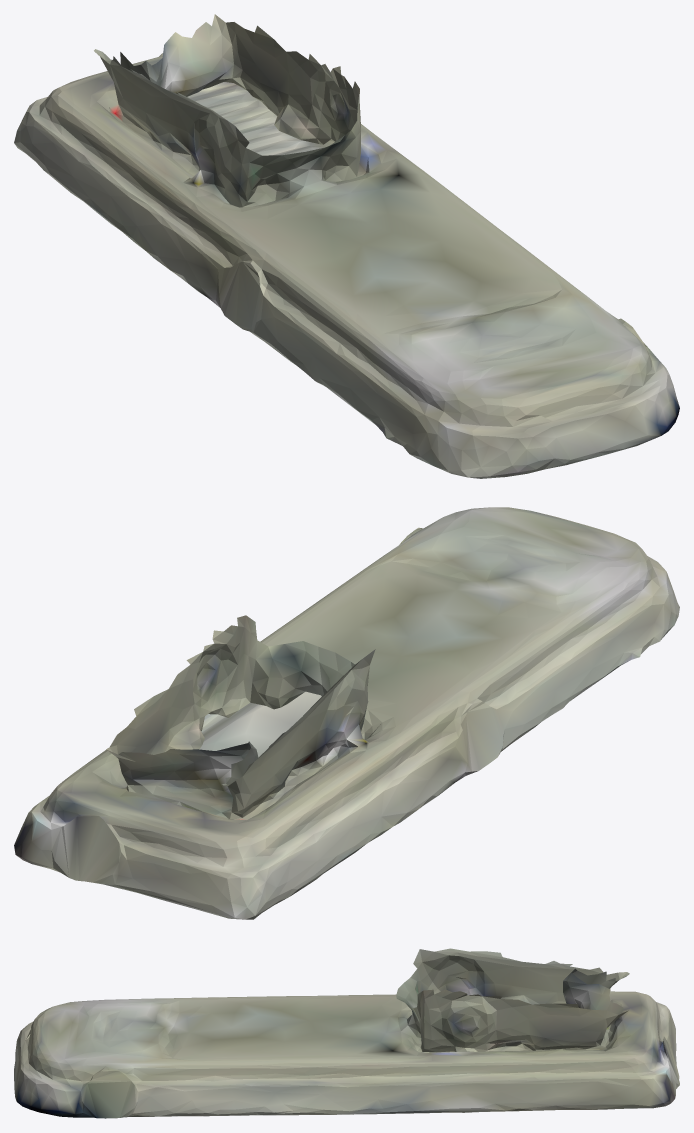
The model's file is scan.obj.
3 views of the same model, one above another, from view 1: azimuth 30°, elevation 25°; view 2: azimuth 150°, elevation 25°; view 3: azimuth 270°, elevation 25° (orthographic). The views are drawn at different scales.
Visible parts, largest first — view 1: scan.ply; view 2: scan.ply; view 3: scan.ply.
Part boxes in pixels (x1,y1,x2,y2): scan.ply: (14,14,679,478); scan.ply: (14,507,679,919); scan.ply: (14,948,679,1118).
Size of the model in its own units: 0.0411 by 0.0243 by 0.1303.
